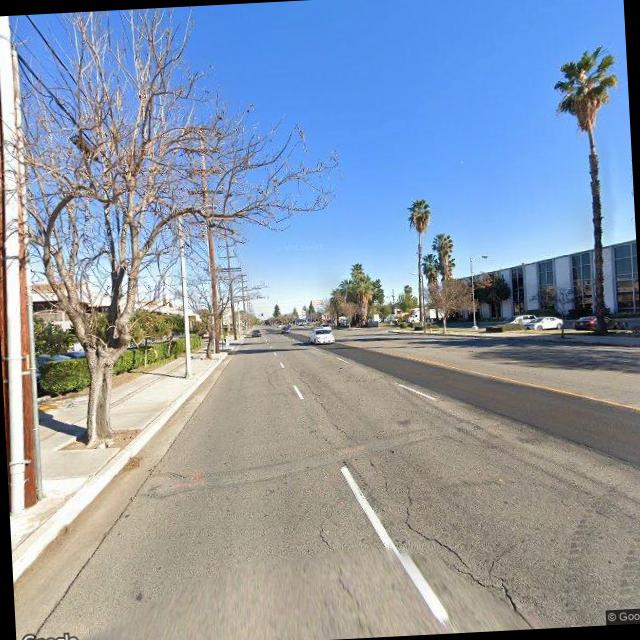pothole: (398, 476, 532, 630), (286, 362, 356, 448), (314, 510, 364, 628)
